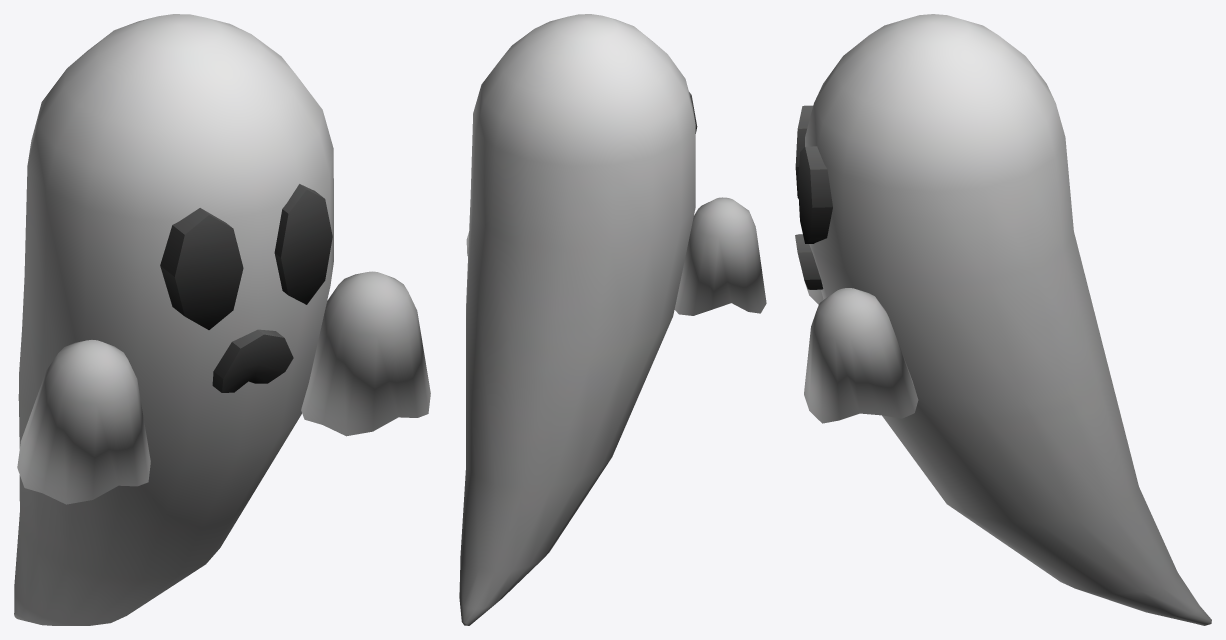
File: FantasmaCorrompido.fbx
The picture shows the model from 3 angles, left to right: view 1: azimuth 30°, elevation 25°; view 2: azimuth 150°, elevation 25°; view 3: azimuth 270°, elevation 25°; orthographic projection. The views are drawn at different scales.
Visible parts, largest first — view 1: FantasmaCorrompido; view 2: FantasmaCorrompido; view 3: FantasmaCorrompido.
Boxes of the visible parts, x1,y1,x2,y2 form: FantasmaCorrompido: [14, 14, 430, 625]; FantasmaCorrompido: [459, 14, 766, 625]; FantasmaCorrompido: [795, 14, 1211, 625].
Bounding box in the file's own units: 119 × 204 × 128.
